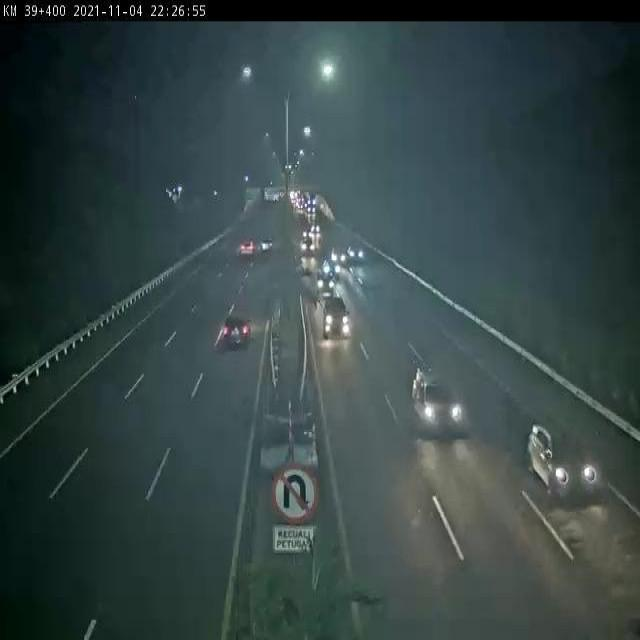car: (527, 414, 602, 498), (412, 364, 464, 431), (323, 295, 350, 337), (221, 310, 252, 346), (317, 271, 336, 296), (348, 241, 366, 264), (322, 259, 341, 280), (330, 244, 347, 267)
